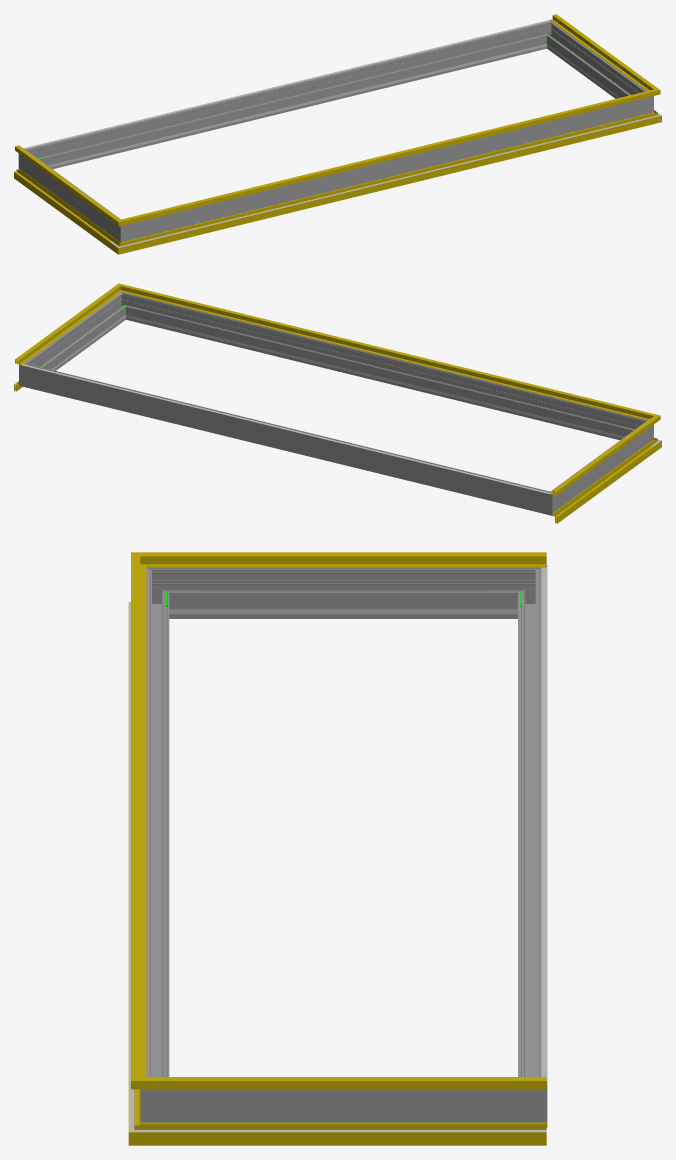
The picture shows the model from 3 angles, top to bottom: view 1: azimuth 30°, elevation 25°; view 2: azimuth 150°, elevation 25°; view 3: azimuth 270°, elevation 25°; orthographic projection. The views are drawn at different scales.
Parts seen in each view (by area): view 1: 3DGeom-276, 3DGeom-298, 3DGeom-90, 3DGeom-123, 3DGeom-297, 3DGeom-244, 3DGeom-268, 3DGeom-85, 3DGeom-128, 3DGeom-220, 3DGeom-100, 3DGeom-118 (+1 smaller); view 2: 3DGeom-298, 3DGeom-276, 3DGeom-123, 3DGeom-297, 3DGeom-239, 3DGeom-268, 3DGeom-85, 3DGeom-128, 3DGeom-220, 3DGeom-118, 3DGeom-278, 3DGeom-284; view 3: 3DGeom-268, 3DGeom-276, 3DGeom-297, 3DGeom-298, 3DGeom-97, 3DGeom-123, 3DGeom-118, 3DGeom-128, 3DGeom-220, 3DGeom-232, 3DGeom-284, 3DGeom-290 (+4 smaller).
Part boxes in pixels (left/top/right/bottom): 3DGeom-276: left=35, top=24, right=544, bottom=168; 3DGeom-298: left=135, top=99, right=638, bottom=238; 3DGeom-90: left=130, top=115, right=646, bottom=250; 3DGeom-123: left=132, top=92, right=645, bottom=222; 3DGeom-297: left=548, top=26, right=642, bottom=98; 3DGeom-244: left=53, top=47, right=532, bottom=166; 3DGeom-268: left=27, top=154, right=116, bottom=235; 3DGeom-85: left=14, top=168, right=114, bottom=247; 3DGeom-128: left=550, top=14, right=651, bottom=89; 3DGeom-220: left=23, top=20, right=550, bottom=149; 3DGeom-100: left=132, top=118, right=646, bottom=244; 3DGeom-118: left=15, top=145, right=113, bottom=219; 3DGeom-298: left=128, top=295, right=637, bottom=439; 3DGeom-276: left=34, top=366, right=539, bottom=511; 3DGeom-123: left=130, top=287, right=644, bottom=418; 3DGeom-297: left=30, top=297, right=124, bottom=370; 3DGeom-239: left=140, top=318, right=619, bottom=437; 3DGeom-268: left=556, top=425, right=645, bottom=506; 3DGeom-85: left=552, top=443, right=653, bottom=523; 3DGeom-128: left=15, top=290, right=116, bottom=365; 3DGeom-220: left=22, top=364, right=550, bottom=493; 3DGeom-118: left=550, top=421, right=651, bottom=495; 3DGeom-278: left=537, top=487, right=560, bottom=515; 3DGeom-284: left=19, top=359, right=36, bottom=389; 3DGeom-268: left=175, top=567, right=512, bottom=618; 3DGeom-276: left=518, top=579, right=547, bottom=1076; 3DGeom-297: left=175, top=1089, right=512, bottom=1122; 3DGeom-298: left=146, top=579, right=169, bottom=1076; 3DGeom-97: left=163, top=1122, right=546, bottom=1145; 3DGeom-123: left=131, top=567, right=146, bottom=1073; 3DGeom-118: left=166, top=552, right=546, bottom=567; 3DGeom-128: left=166, top=1077, right=546, bottom=1089; 3DGeom-220: left=541, top=567, right=546, bottom=1082; 3DGeom-232: left=203, top=609, right=484, bottom=614; 3DGeom-284: left=512, top=1070, right=547, bottom=1127; 3DGeom-290: left=140, top=1070, right=175, bottom=1122.
Size of the model in its own units: 5.49 by 0.3069 by 1.83.
